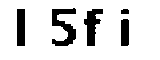5: (43, 5, 78, 51)
f: (80, 7, 104, 46)
i: (111, 7, 139, 50)
l: (11, 5, 34, 52)
